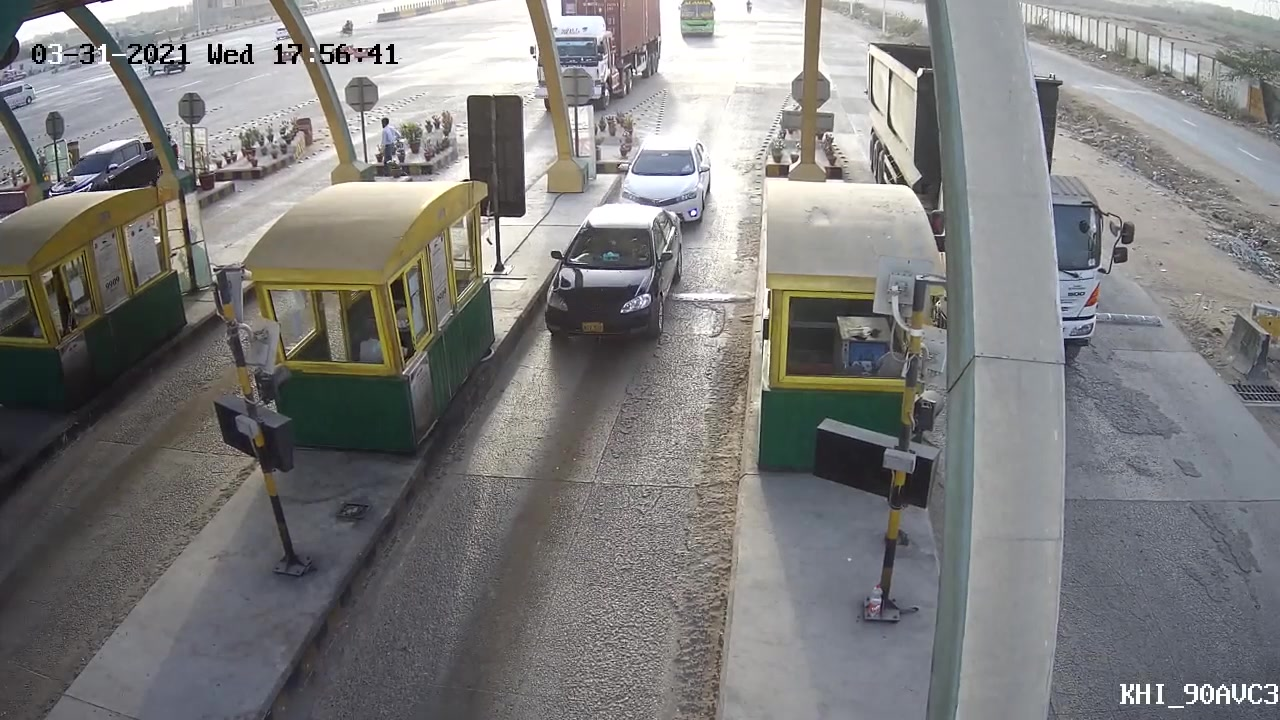F1: (529, 198, 692, 361)
